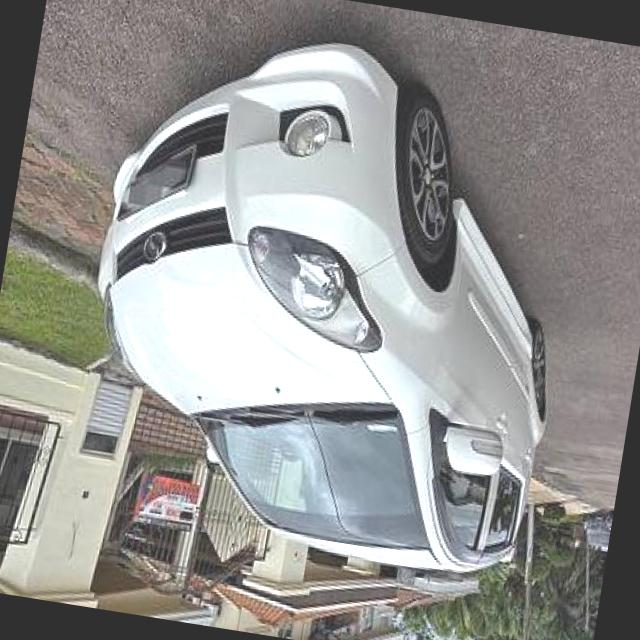PeroduaMyvi: (56, 9, 602, 591)
